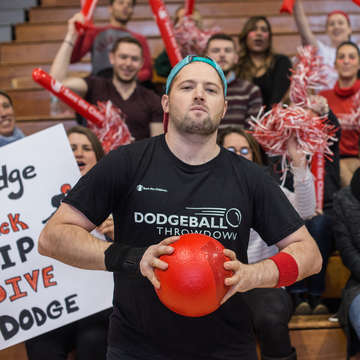red ball: (151, 229, 239, 320)
